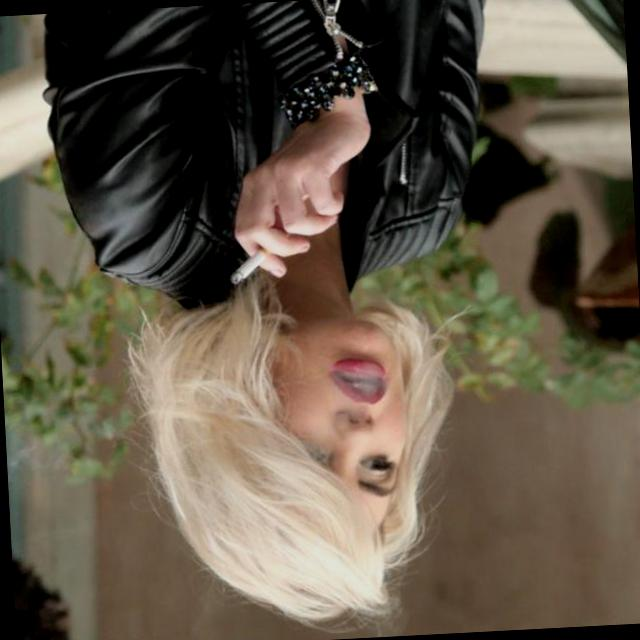smoke: (218, 211, 298, 298)
